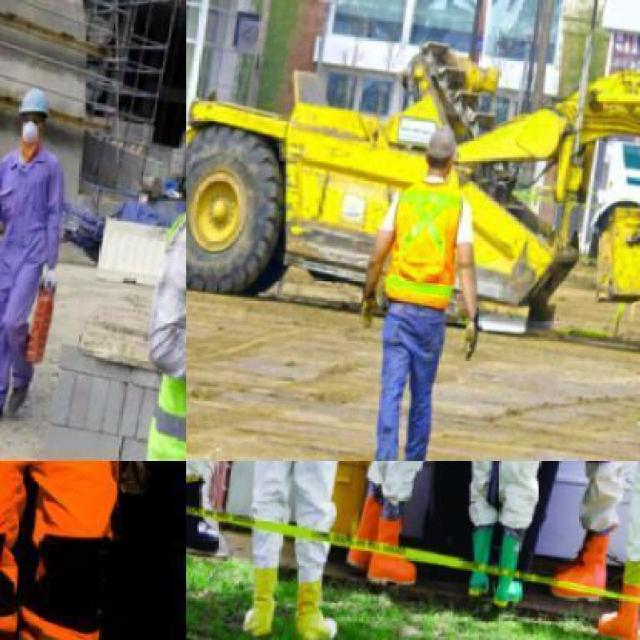helmet: (423, 124, 469, 164), (15, 88, 58, 116)
